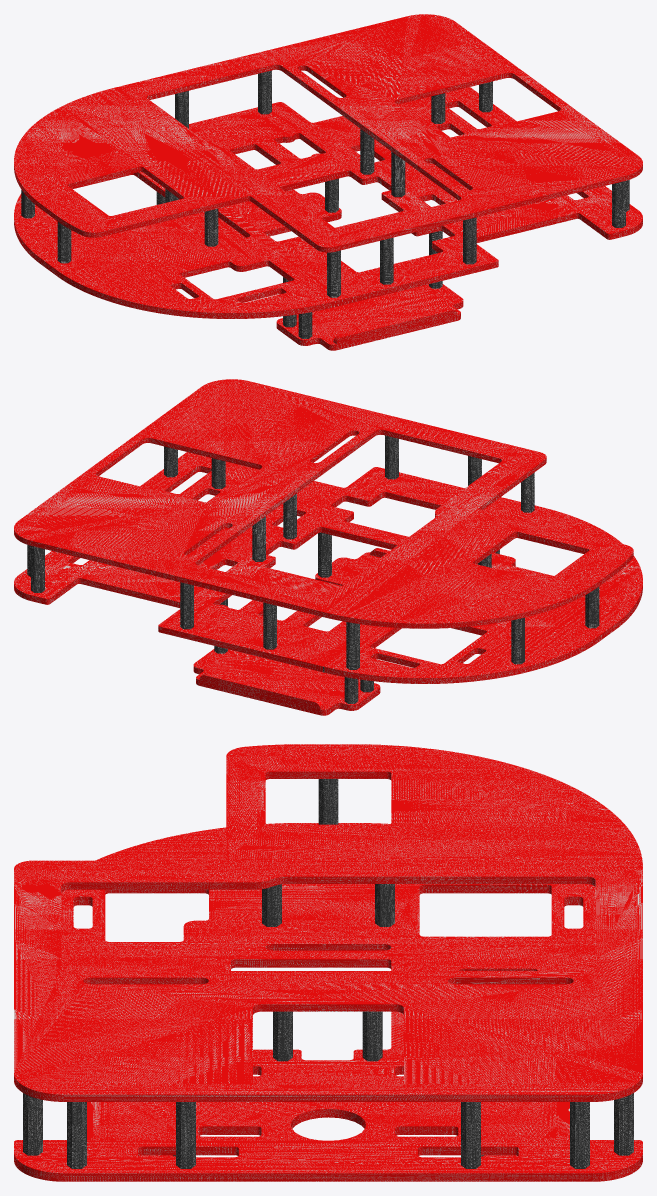
Rendered from caretta_body.dae.
3 renders of one model, top to bottom at view 1: azimuth 30°, elevation 25°; view 2: azimuth 150°, elevation 25°; view 3: azimuth 270°, elevation 25°, orthographic. The views are drawn at different scales.
Visible parts, largest first — view 1: Component_131 (×18); view 2: Component_131 (×21); view 3: Component_131 (×26).
Boxes of the visible parts, x1,y1,x2,y2 form: Component_131 (×18): [14, 14, 642, 350]; Component_131 (×21): [14, 379, 642, 715]; Component_131 (×26): [14, 744, 642, 1181].
Bounding box in the file's own units: 10.38 × 7.87 × 2.5.
